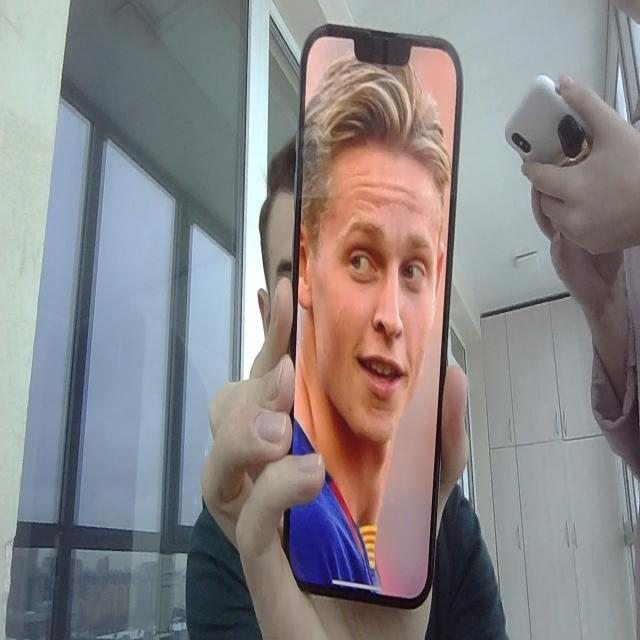device: (283, 25, 465, 611)
